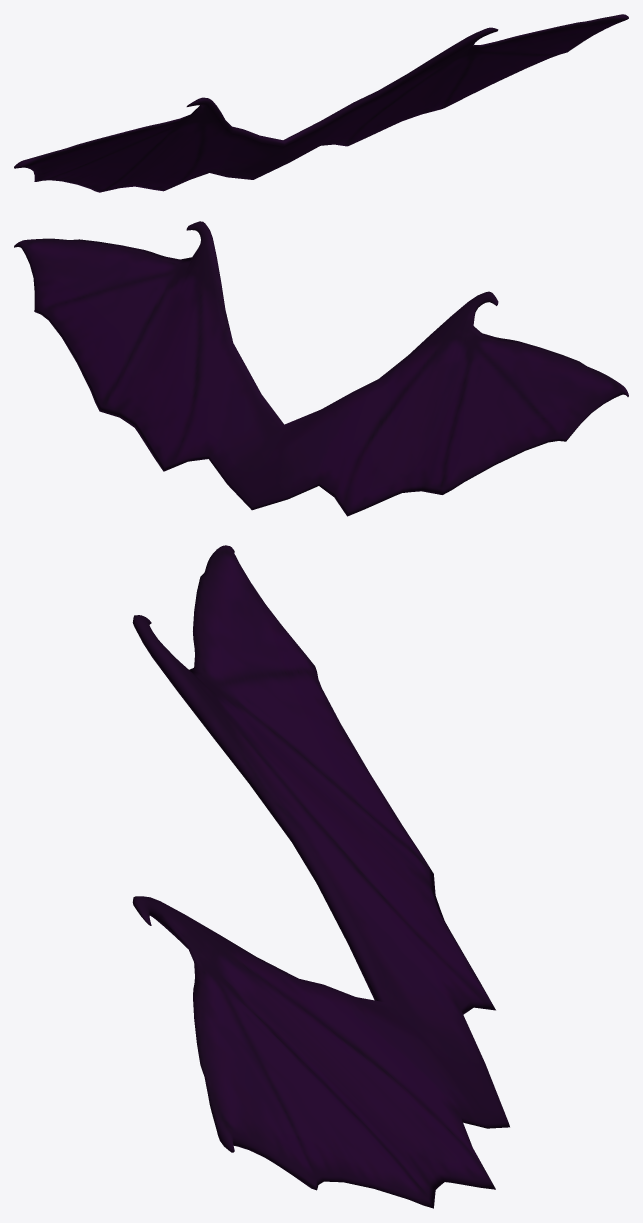
File: AsasDeMorcego.fbx
The picture shows the model from 3 angles, top to bottom: view 1: azimuth 30°, elevation 25°; view 2: azimuth 150°, elevation 25°; view 3: azimuth 270°, elevation 25°; orthographic projection. The views are drawn at different scales.
Visible parts, largest first — view 1: Asas de Morcego; view 2: Asas de Morcego; view 3: Asas de Morcego.
Part boxes in pixels (<box>): Asas de Morcego: <box>14,14,628,192</box>; Asas de Morcego: <box>14,221,628,516</box>; Asas de Morcego: <box>132,545,509,1208</box>.
Size of the model in its own units: 464 by 134 by 123.
